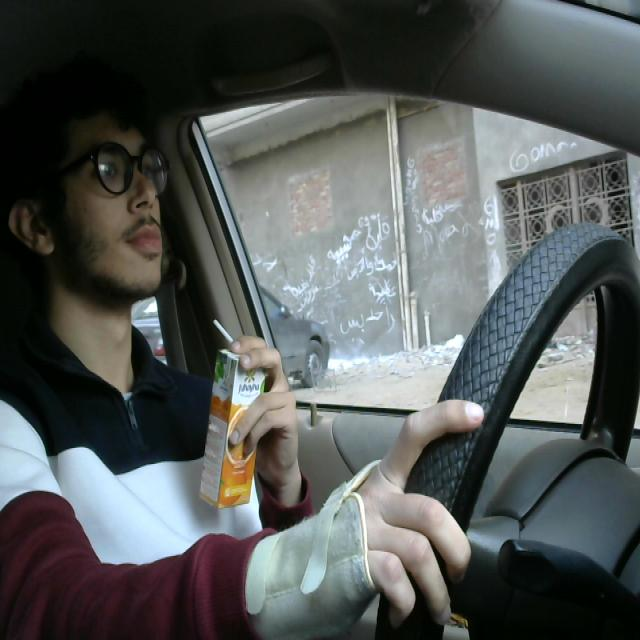drinking: (190, 312, 272, 512)
